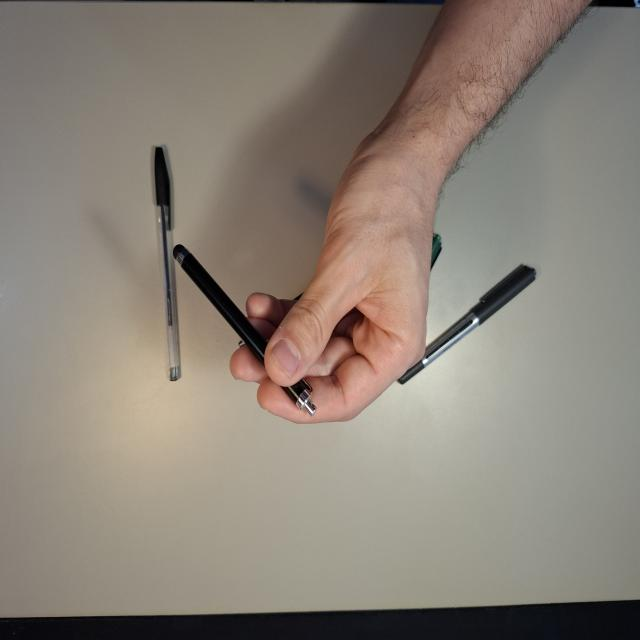glove_off: (228, 112, 468, 426)
